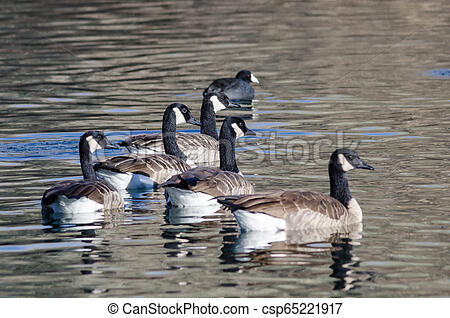goose: (215, 147, 376, 233), (94, 101, 204, 189), (163, 114, 258, 212), (123, 93, 241, 161), (41, 129, 120, 218)
